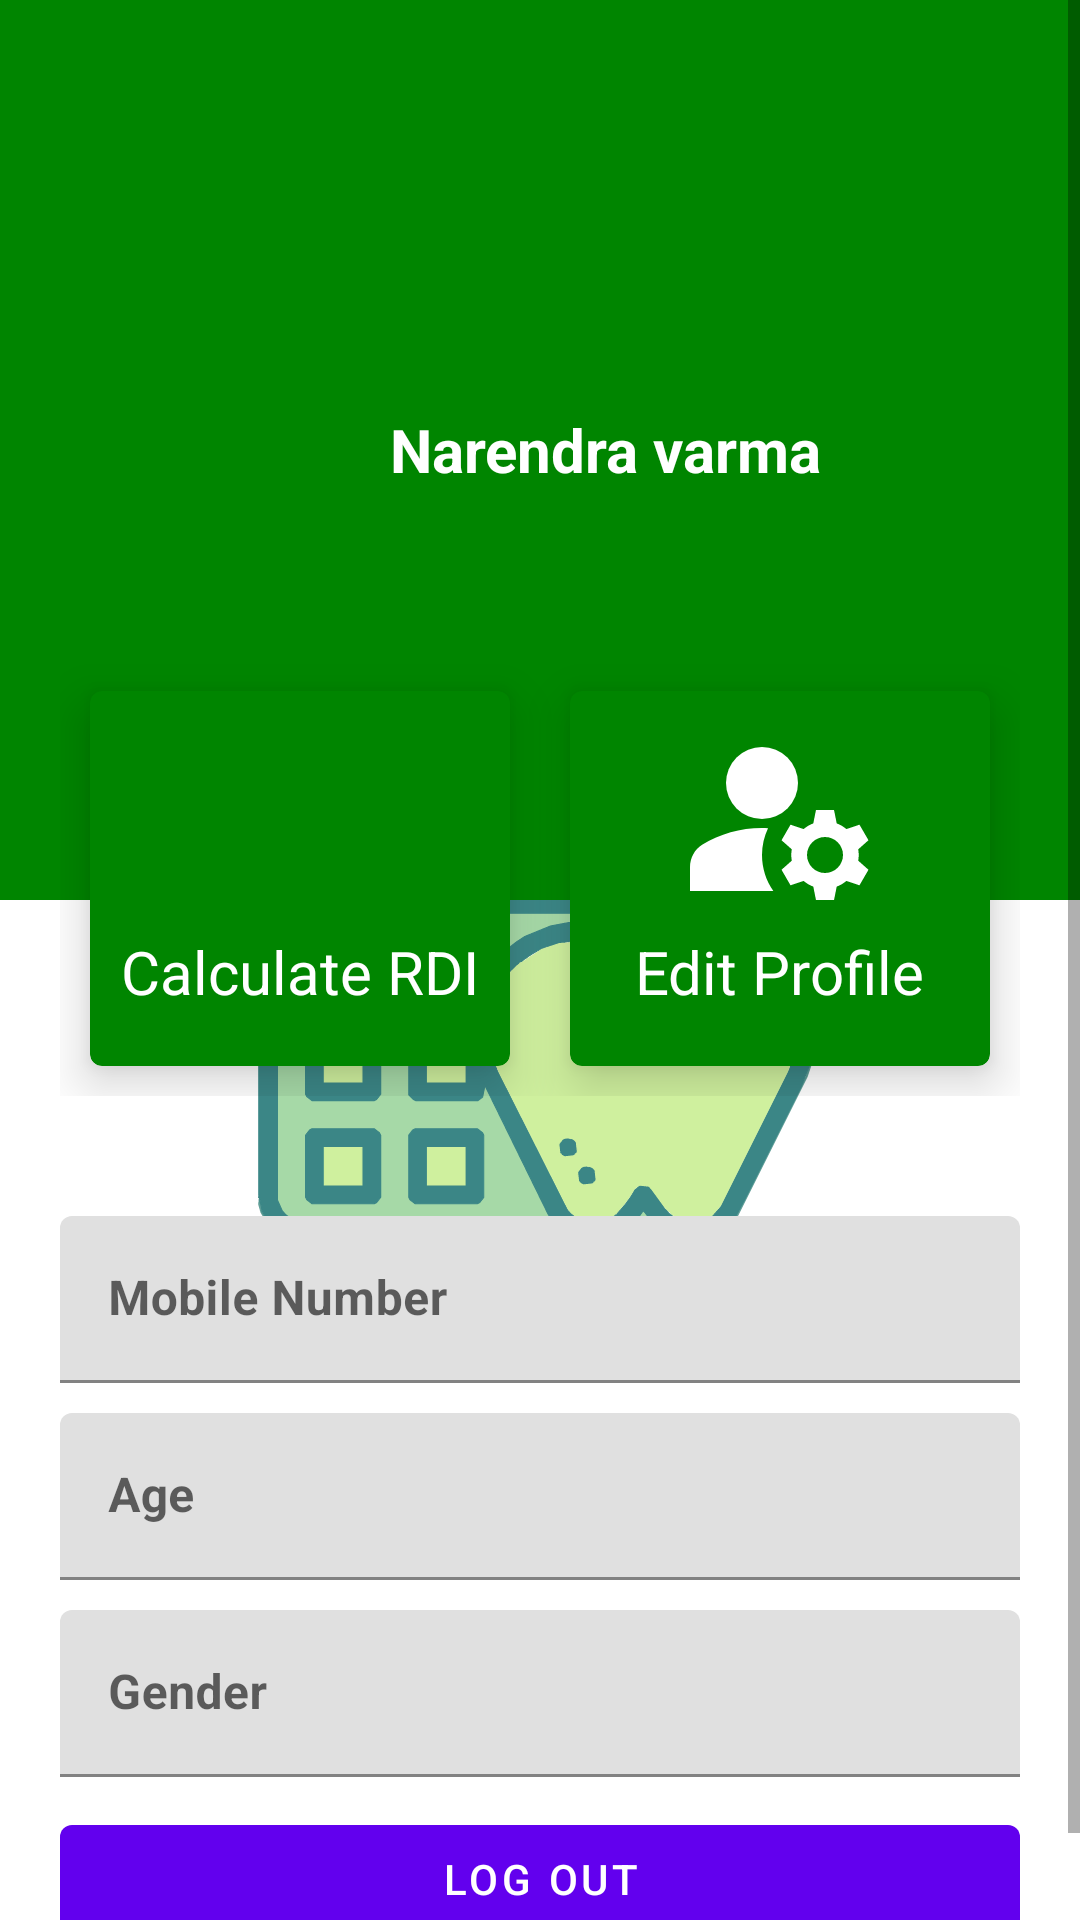

Named icons in this screenshot (1080*1920) and their bounding boxes, region(x1, y1, x2, y2):
manage accounts: region(690, 747, 869, 900)
